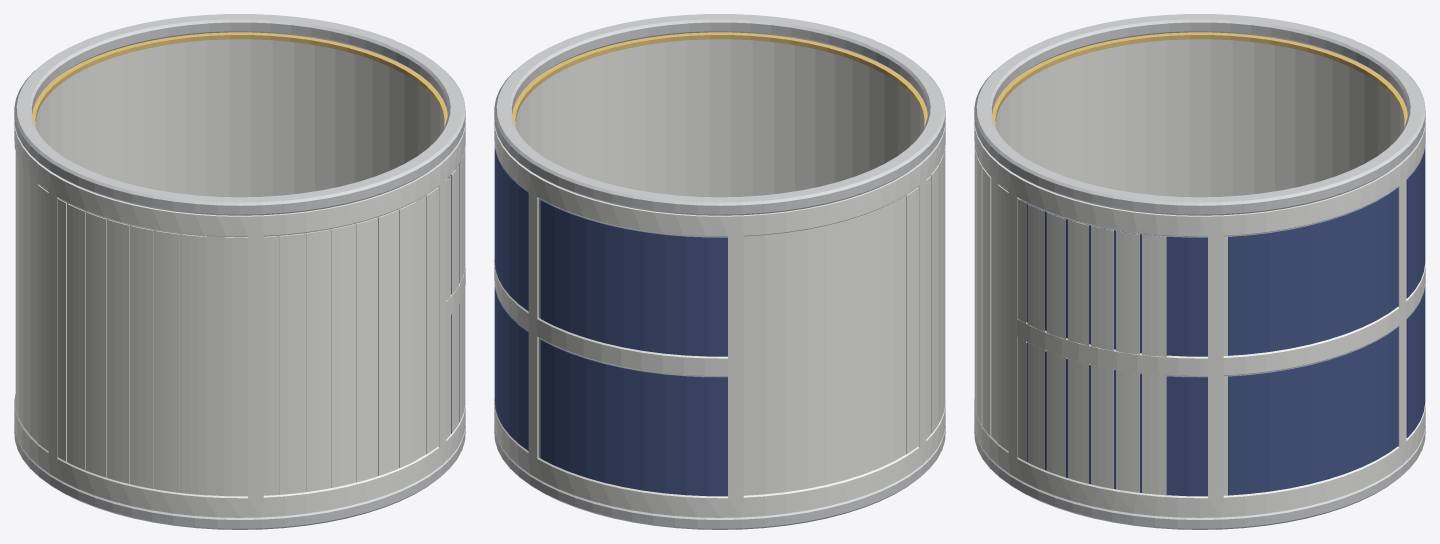
The model's file is ax_cmd_12_service_trunk.glb.
3 renders of one model, left to right at view 1: azimuth 30°, elevation 25°; view 2: azimuth 150°, elevation 25°; view 3: azimuth 270°, elevation 25°, orthographic.
Parts seen in each view (by area): view 1: trunk_skin, radiator_panels, interface_rings, separation_ring_mli; view 2: trunk_skin, solar_cells, interface_rings, radiator_panels, separation_ring_mli; view 3: trunk_skin, solar_cells, radiator_panels, interface_rings, separation_ring_mli.
Boxes of the visible parts, x1,y1,x2,y2 form: trunk_skin: [14, 39, 465, 517]; radiator_panels: [37, 147, 465, 496]; interface_rings: [14, 14, 465, 529]; separation_ring_mli: [32, 32, 447, 127]; trunk_skin: [494, 39, 945, 517]; solar_cells: [494, 148, 727, 496]; interface_rings: [494, 14, 945, 529]; radiator_panels: [906, 146, 945, 453]; separation_ring_mli: [512, 32, 927, 127]; trunk_skin: [974, 39, 1425, 517]; solar_cells: [1021, 146, 1425, 496]; radiator_panels: [974, 148, 1166, 495]; interface_rings: [974, 14, 1425, 529]; separation_ring_mli: [992, 32, 1407, 127].
Bounding box in the file's own units: 3.75 × 3 × 3.75.
